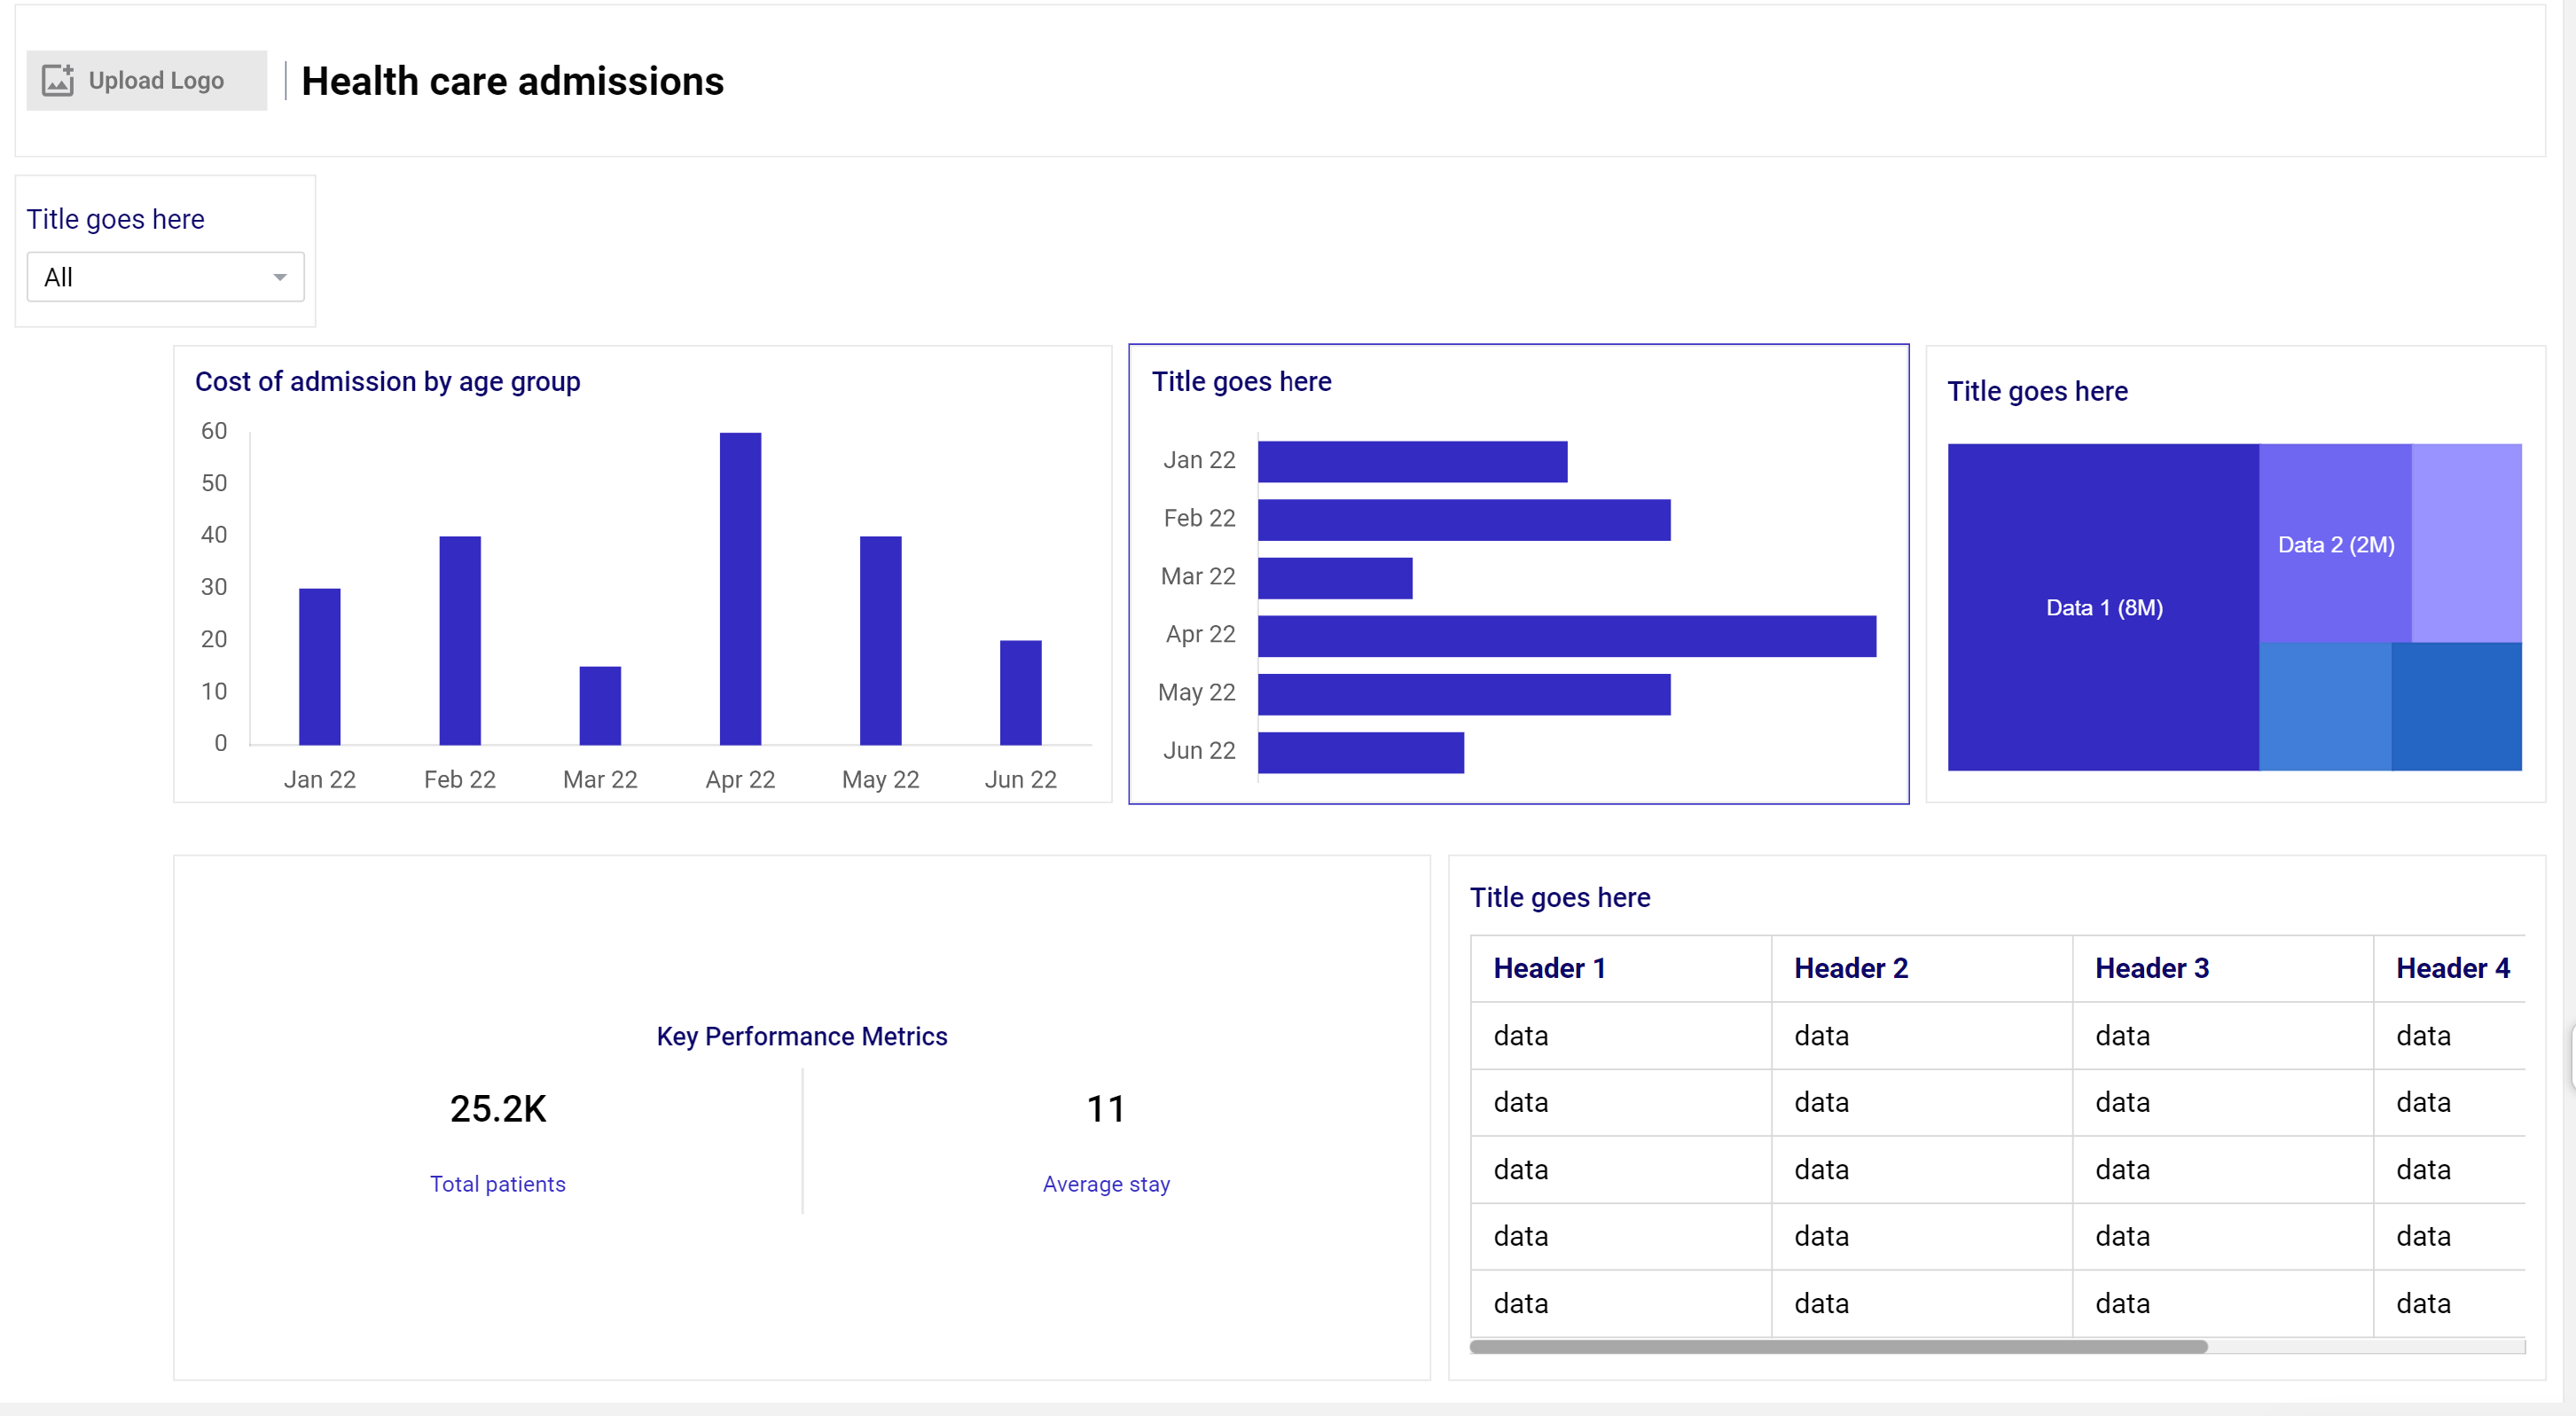

This screenshot's page, from the dashboard's own definition file:
{"tool":"powerbi","page":{"name":"CostAnalysis","canvas":[1280,720],"ordinal":0},"visuals":[{"type":"shape","box":[11.5,0,1269,720.4],"z":0},{"type":"textbox","box":[153.8,16.7,1056.2,32],"z":1000},{"type":"treemap","title":"Average Contribution by Insurance Providers","fields":{"Group":["health_care_adm_view.Insurance_Provider","health_care_adm_view.Medical_Condition","health_care_adm_view.Age_Group"],"Values":["CalculationTable.Total Billing (M)"]},"box":[879,89,366.6,299.9],"z":2000},{"type":"clusteredBarChart","title":"Cost of Admission by Medical Condition","fields":{"Category":["health_care_adm_view.Medical_Condition","health_care_adm_view.Age_Group"],"Y":["CalculationTable.Total Billing (M)"]},"box":[489.6,89,385.8,299.9],"z":3000},{"type":"clusteredColumnChart","title":"Cost of Admission by Age Group","fields":{"Category":["health_care_adm_view.Age_Group"],"Y":["CalculationTable.Total Billing (M)"]},"box":[142,89,347.4,299.9],"z":4000},{"type":"tableEx","fields":{"Values":["health_care_adm_view.Medication","CalculationTable.Total Patients Admitted","CalculationTable.Average Billing per day","CalculationTable.Total Billing (M)"]},"box":[717.8,457.6,540.9,246.1],"z":5000},{"type":"card","fields":{"Values":["CalculationTable.Total Patients Admitted"]},"box":[24.4,506.3,244.8,198.7],"z":6000},{"type":"card","fields":{"Values":["CalculationTable.Average Billing per day"]},"box":[269.2,507.6,243.5,197.4],"z":7000},{"type":"card","fields":{"Values":["CalculationTable.Average Stay (days)"]},"box":[489.6,507.6,228.2,197.4],"z":8000},{"type":"textbox","box":[88.4,469.1,606.3,37.2],"z":9000},{"type":"textbox","box":[756.3,424.3,453.8,28.2],"z":10000},{"type":"slicer","fields":{"Values":["health_care_adm_view.Gender"]},"box":[24.4,106.4,117.9,65.4],"z":11000}]}

Visuals, with their boxes in screenshot pixels (x1, y1, x2, y2), scaled from the page's 1280x720 canvas onto the 2576x1416 screenshot:
shape: <region>23, 0, 2575, 1415</region>
textbox: <region>309, 33, 2435, 96</region>
"Average Contribution by Insurance Providers" treemap: <region>1769, 175, 2507, 765</region>
"Cost of Admission by Medical Condition" clusteredBarChart: <region>985, 175, 1762, 765</region>
"Cost of Admission by Age Group" clusteredColumnChart: <region>286, 175, 985, 765</region>
tableEx - health_care_adm_view.Medication x CalculationTable.Total Patients Admitted: <region>1445, 900, 2533, 1384</region>
card - CalculationTable.Total Patients Admitted: <region>49, 996, 542, 1387</region>
card - CalculationTable.Average Billing per day: <region>542, 998, 1032, 1387</region>
card - CalculationTable.Average Stay (days): <region>985, 998, 1445, 1387</region>
textbox: <region>178, 922, 1398, 996</region>
textbox: <region>1522, 834, 2435, 890</region>
slicer - health_care_adm_view.Gender: <region>49, 209, 286, 338</region>
